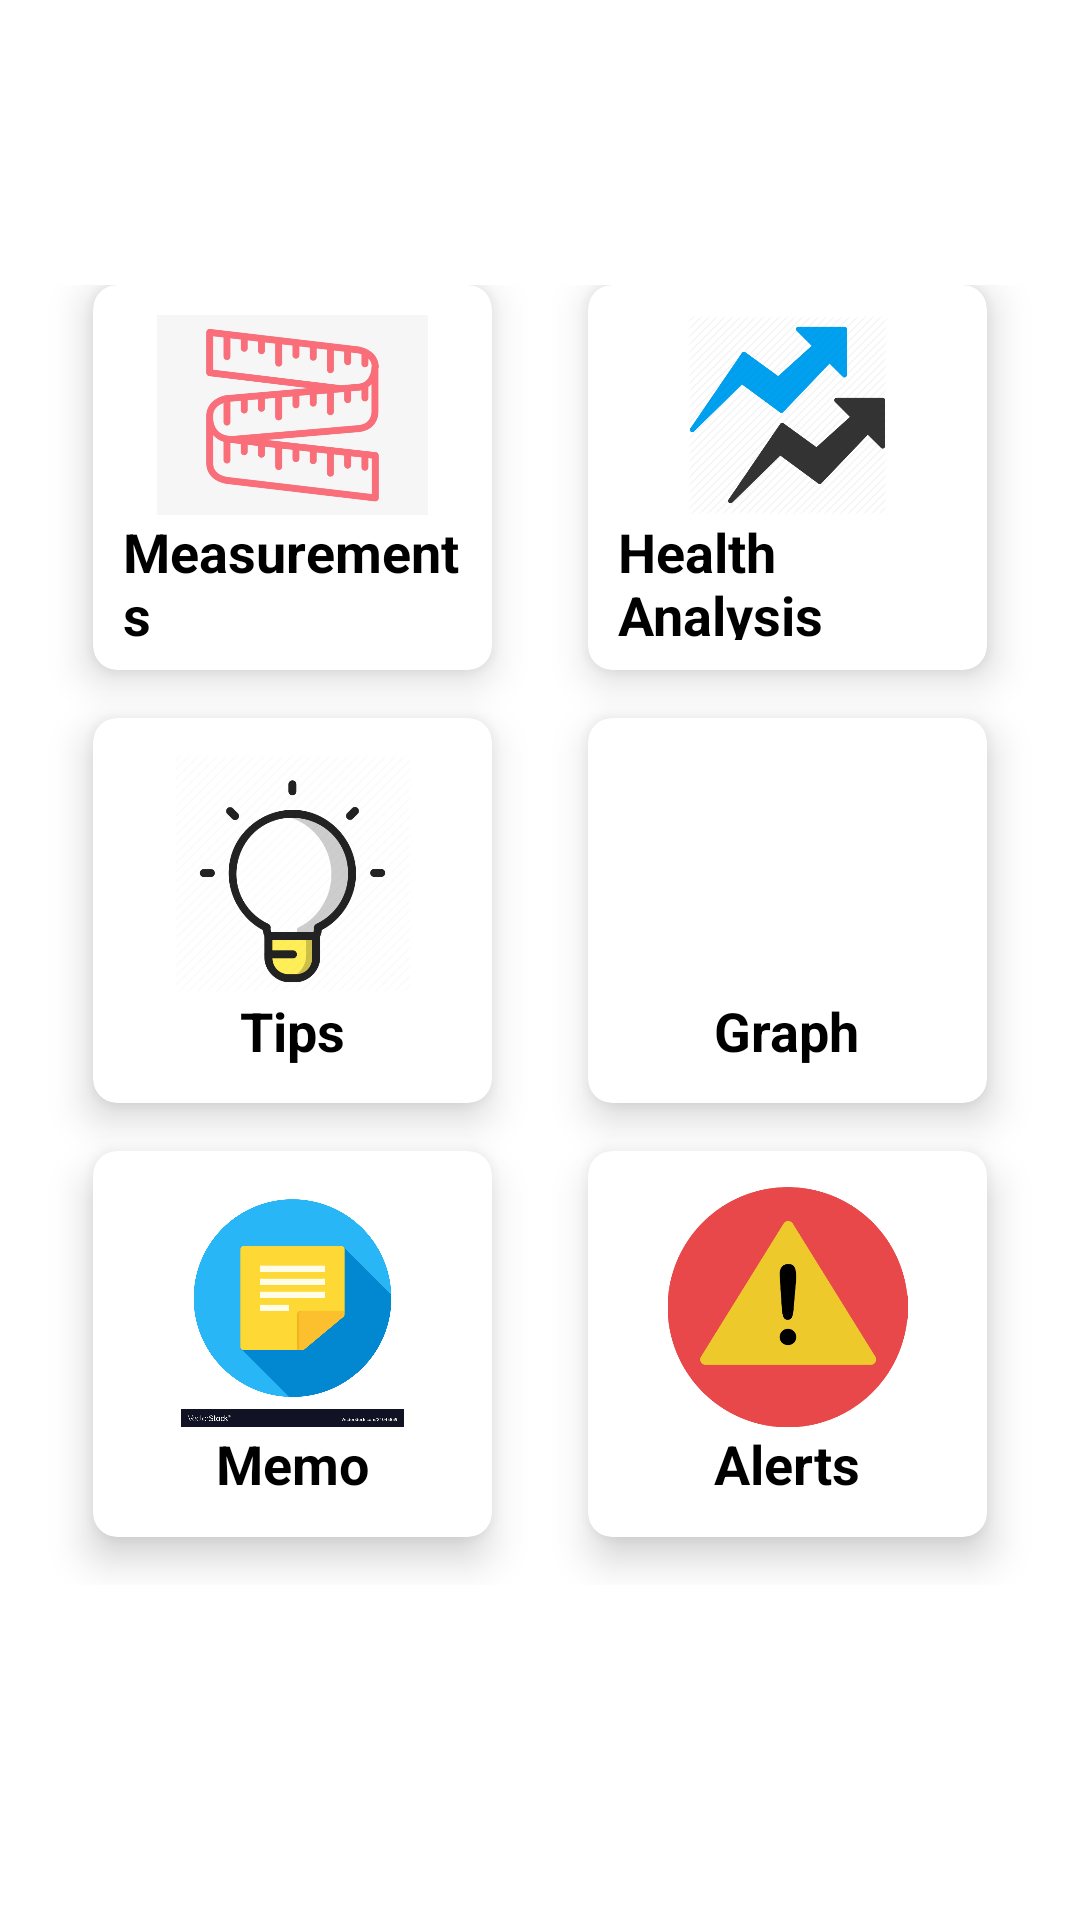

Point at icon controls on the screen. Image size 1080px×1920px, points as point (x, y).
trend: point (787, 414)
